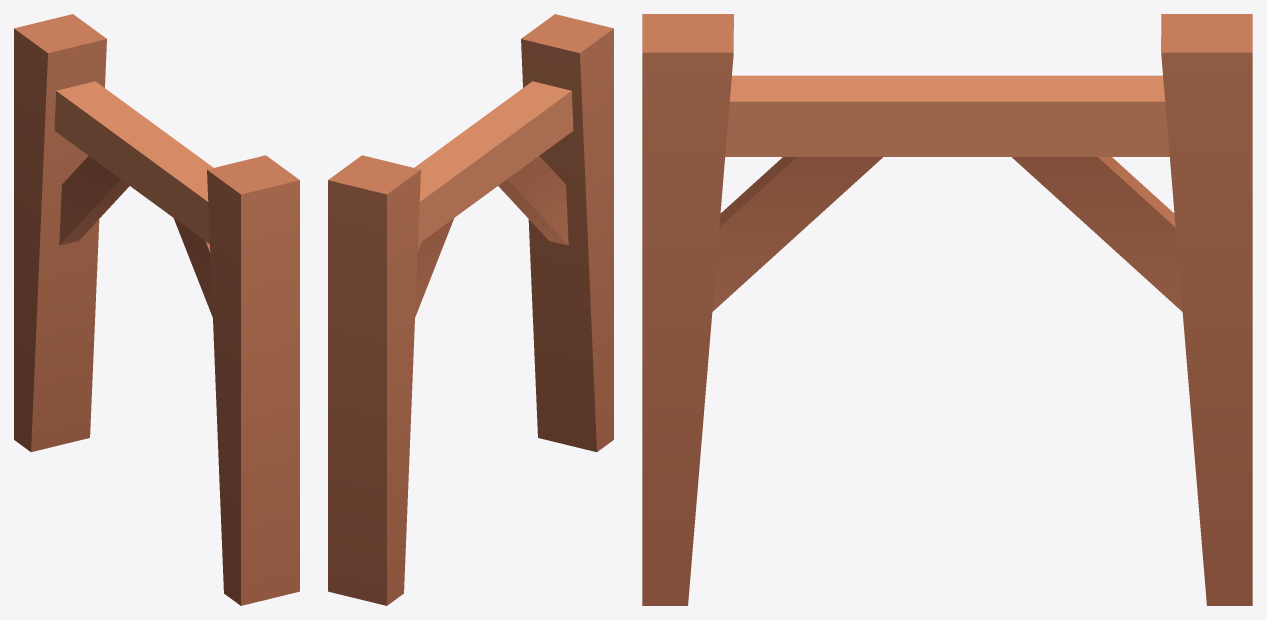
Rendered from wood-support.001_lev5.glb.
The picture shows the model from 3 angles, left to right: view 1: azimuth 30°, elevation 25°; view 2: azimuth 150°, elevation 25°; view 3: azimuth 270°, elevation 25°; orthographic projection. The views are drawn at different scales.
Visible parts, largest first — view 1: wood-support.001_lev5; view 2: wood-support.001_lev5; view 3: wood-support.001_lev5.
Boxes of the visible parts, left/top/right/bottom form: wood-support.001_lev5: left=14, top=14, right=299, bottom=605; wood-support.001_lev5: left=328, top=14, right=613, bottom=605; wood-support.001_lev5: left=642, top=14, right=1252, bottom=605.
Bounding box in the file's own units: 0.6003 × 4 × 4.
1 material, 1 textured.
